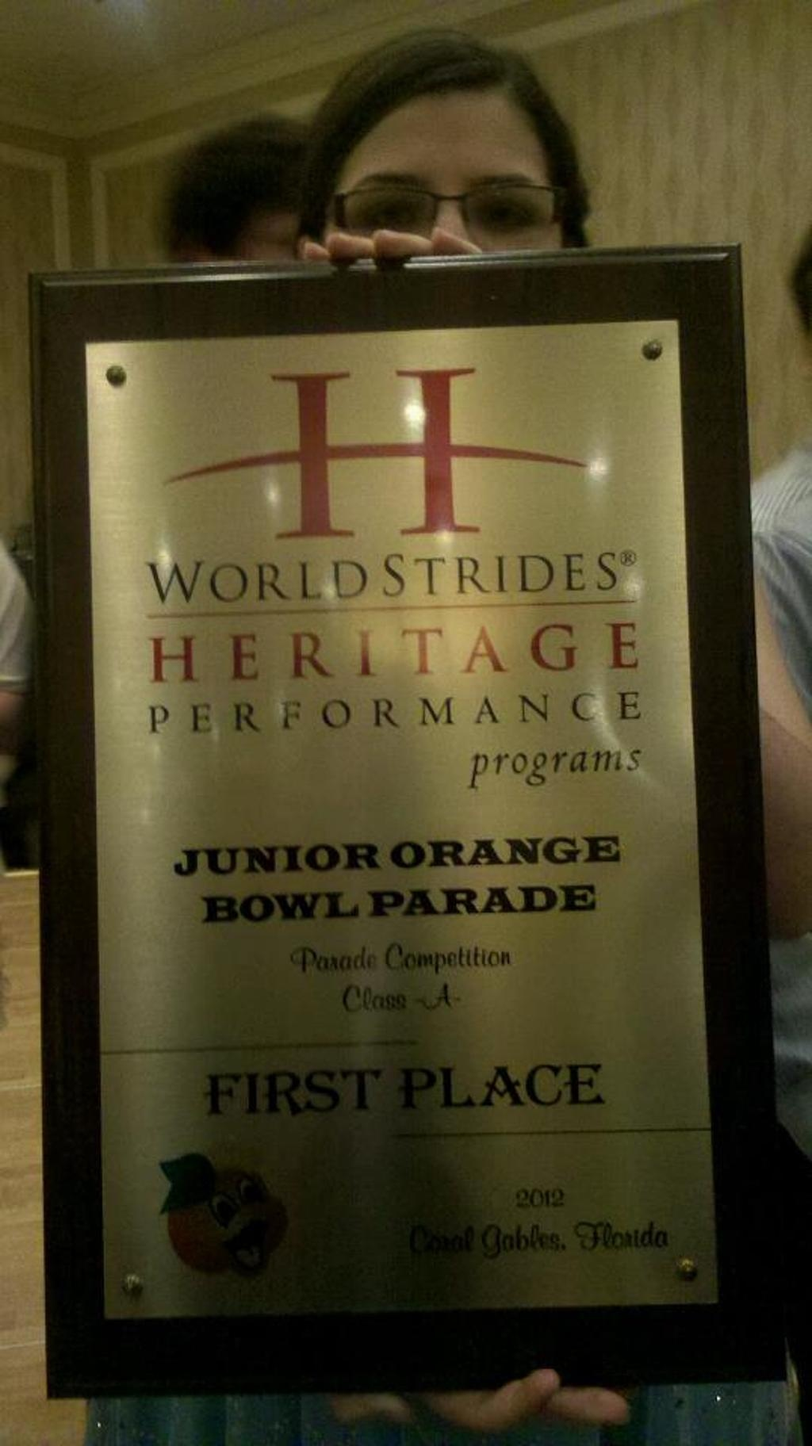human_face: (328, 94, 566, 393)
